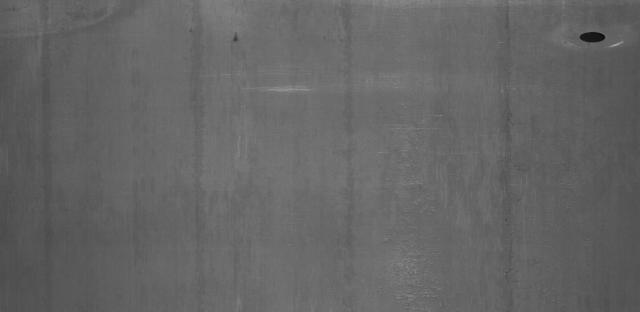oil_spot: (227, 29, 241, 44)
punching_hole: (576, 25, 610, 46)
